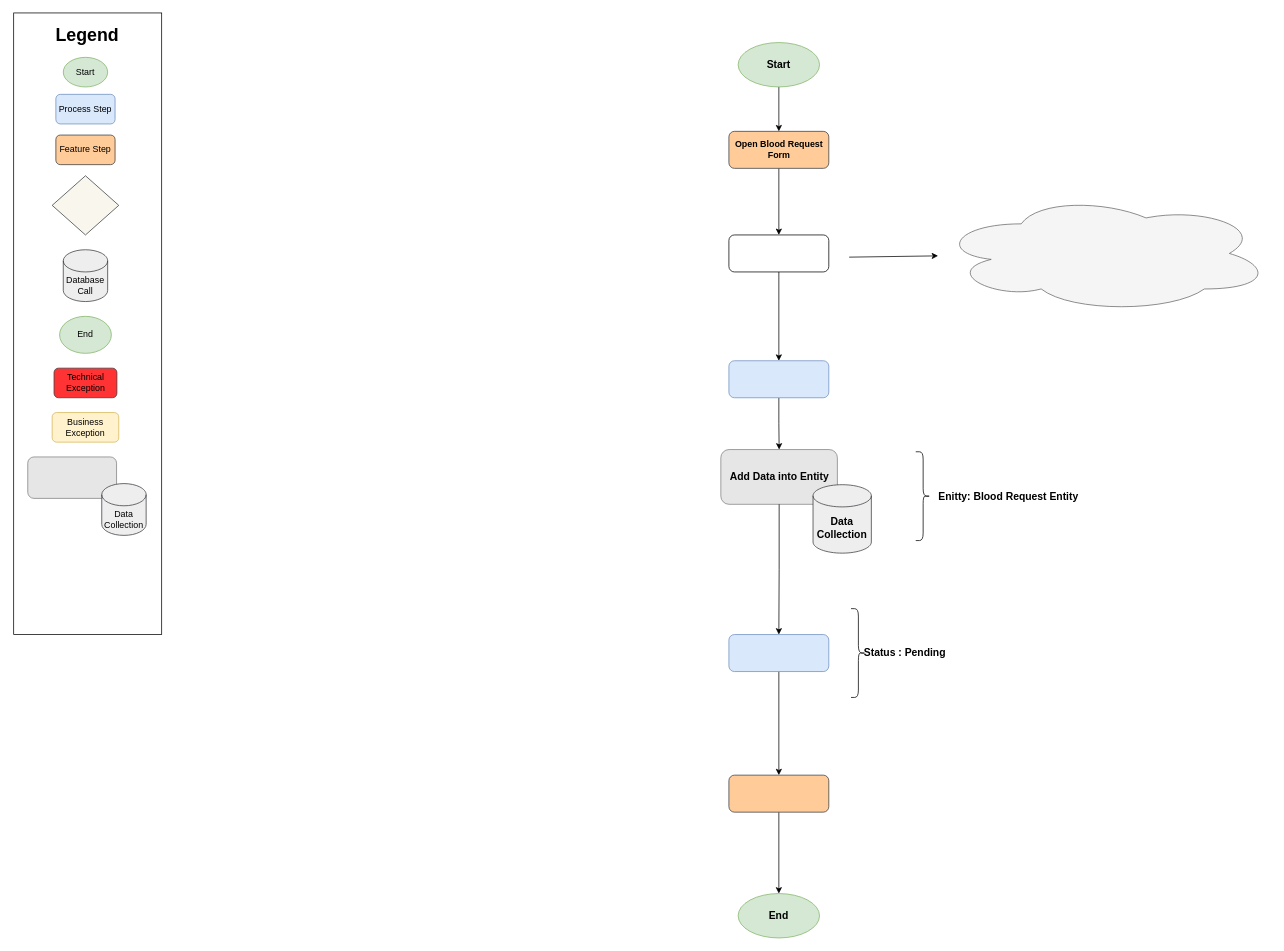
Some shapes in this 1284 by 951 pixel diagram are drawn without their labels. Here are the shapes that lost their labels. From the top down, the centre of each, then its label:
the point at 85,205: Decision Step
the point at 778,253: Add Details
the point at 1104,253: Add Details Blood Group, Component, Priority, Notes, Units
the point at 778,379: Submit Form
the point at 72,477: Data Collection Step
the point at 778,653: Generate Approval
the point at 778,793: Update Approval Center List
